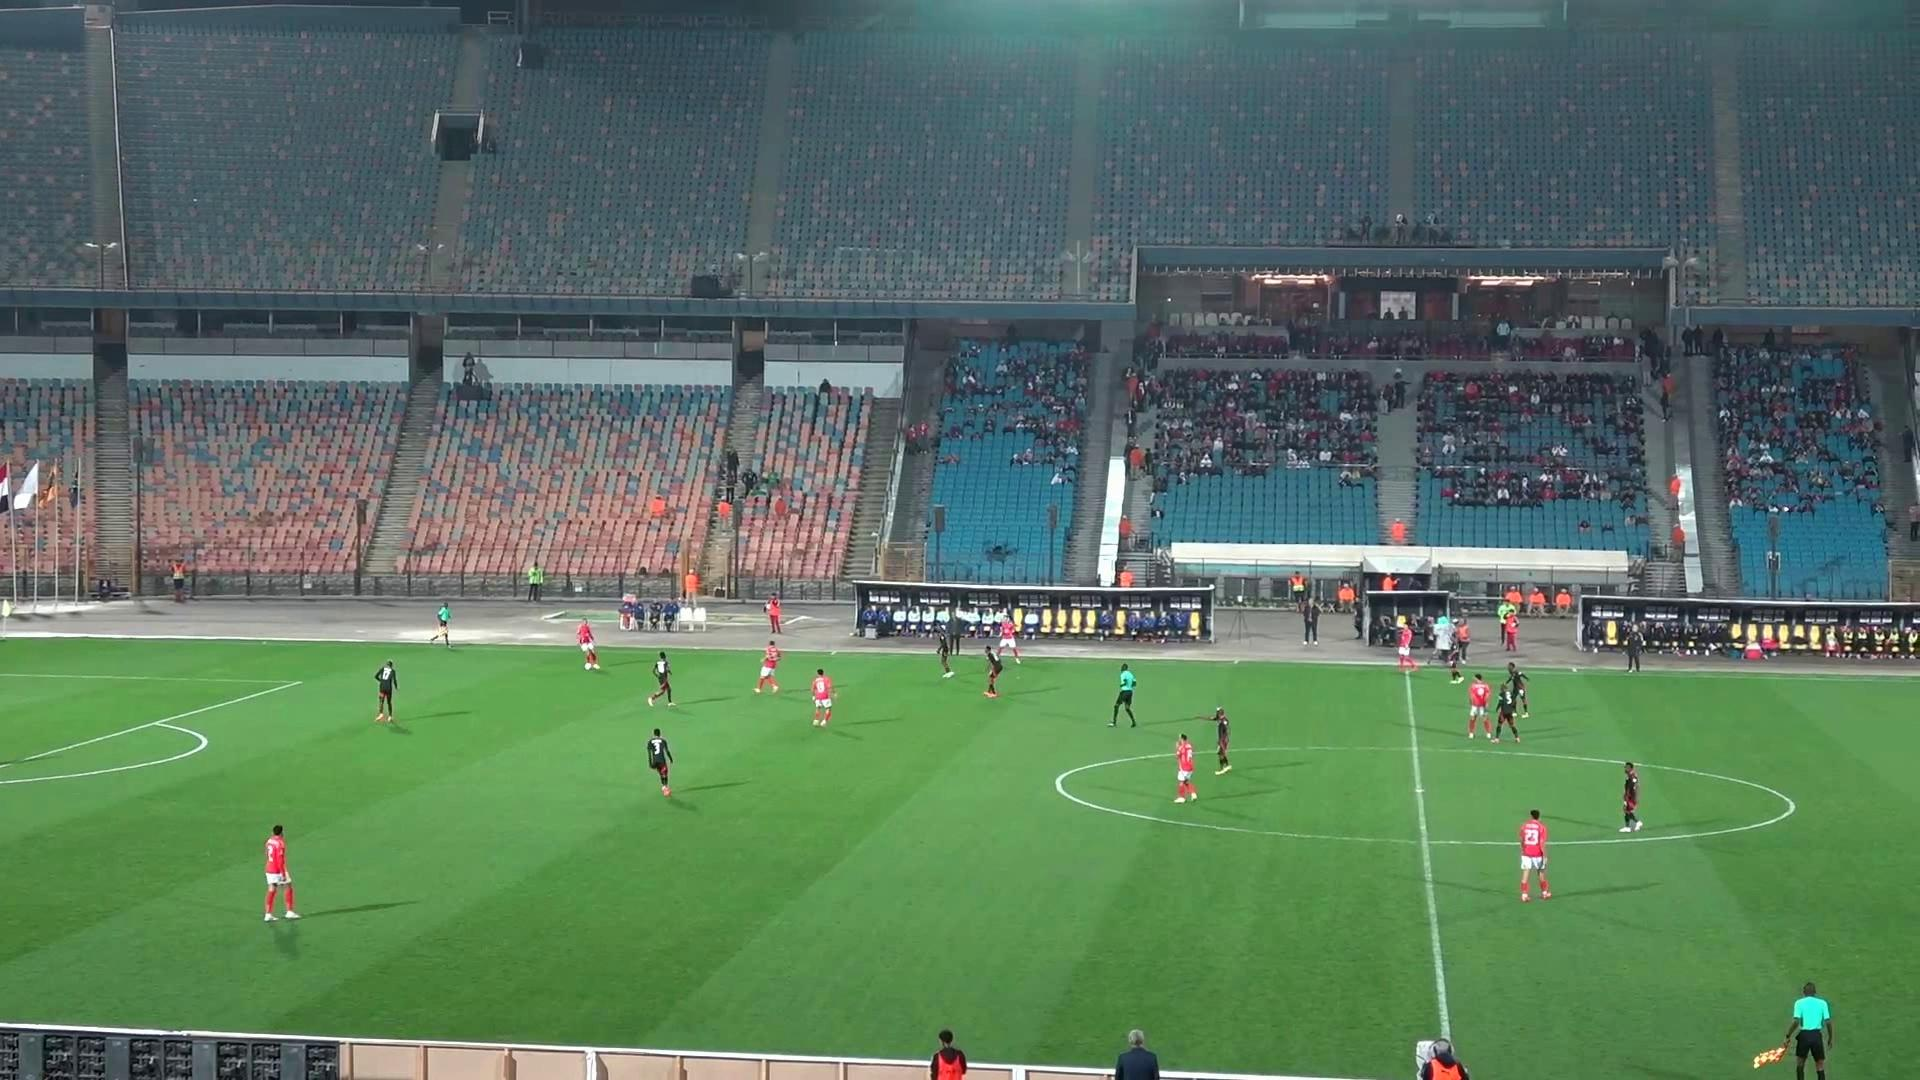Ball: (584, 651, 597, 670)
Refree: (1753, 982, 1833, 1079), (1106, 662, 1137, 727), (431, 603, 451, 646)
Team1: (262, 825, 297, 920), (1519, 808, 1551, 901), (1174, 735, 1197, 803), (1466, 674, 1491, 738), (754, 640, 781, 692), (810, 669, 833, 727), (996, 612, 1021, 661), (1396, 615, 1418, 671), (575, 620, 599, 669)
Team2: (646, 728, 673, 796), (1499, 661, 1526, 721), (646, 650, 674, 705), (1445, 618, 1468, 683), (375, 659, 397, 721), (1211, 709, 1232, 774), (936, 621, 957, 678), (984, 646, 1004, 698)
